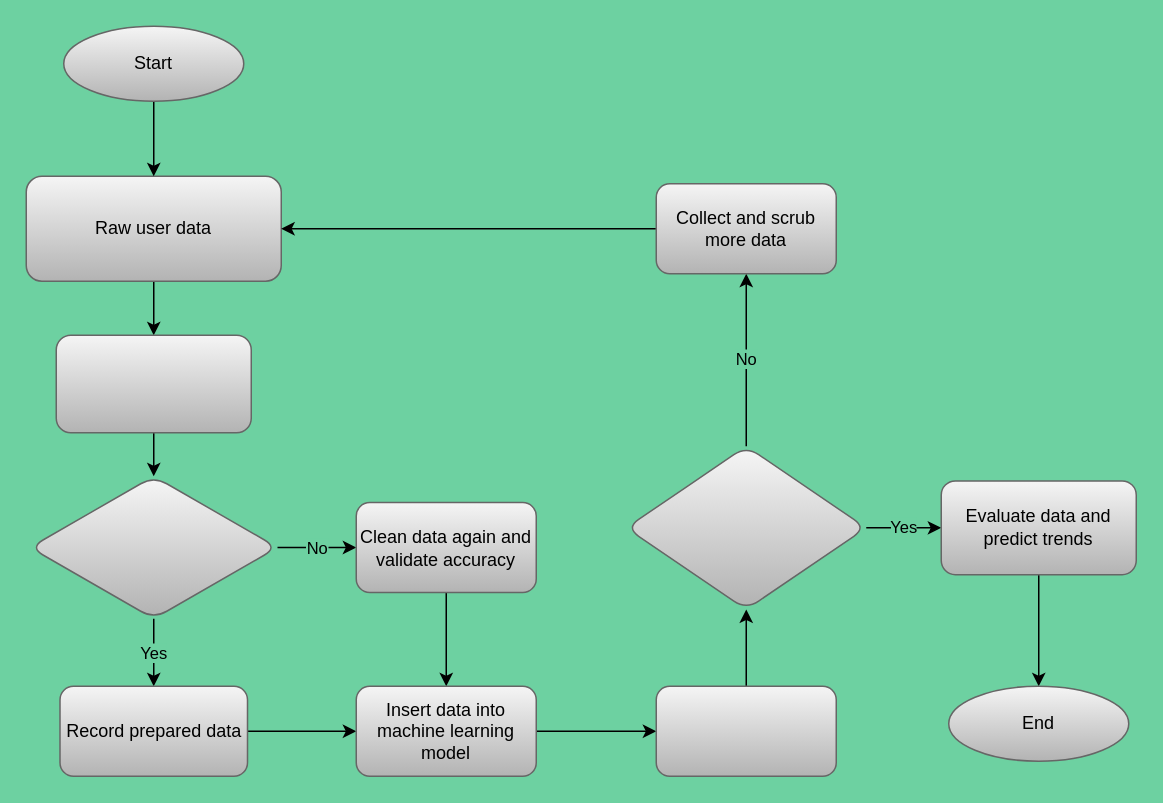
Image size: 1163x803. Some labels were removed from this diagram. Here are the shapes that lost their labels. From the top down, the box of each, then its label:
(55, 334, 251, 433): Scrub and clean data
(28, 475, 278, 619): Is the data clean?
(625, 445, 866, 609): Is there enough data to predict trends?
(655, 685, 836, 776): Vectorization of data
